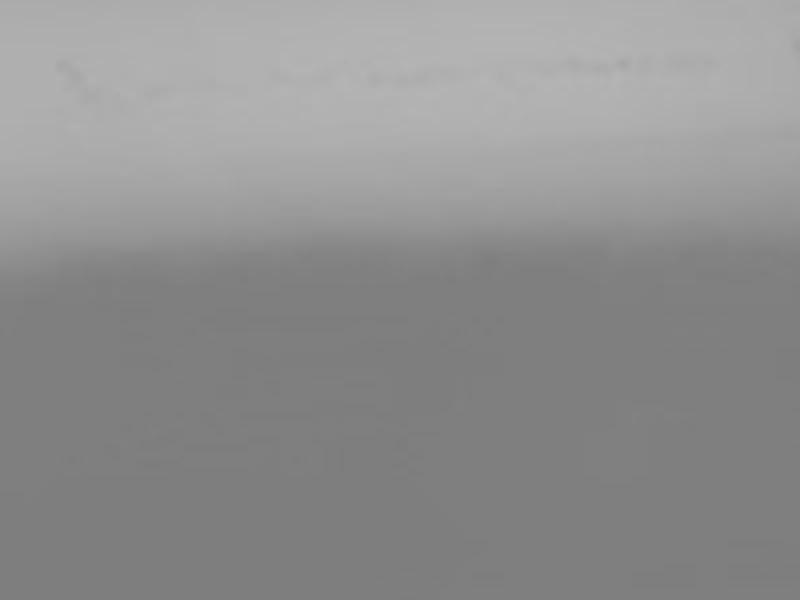defect: (58, 54, 99, 107), (394, 62, 434, 89), (267, 65, 299, 91), (585, 55, 615, 77), (614, 54, 640, 75), (561, 54, 583, 74), (366, 65, 382, 92)
